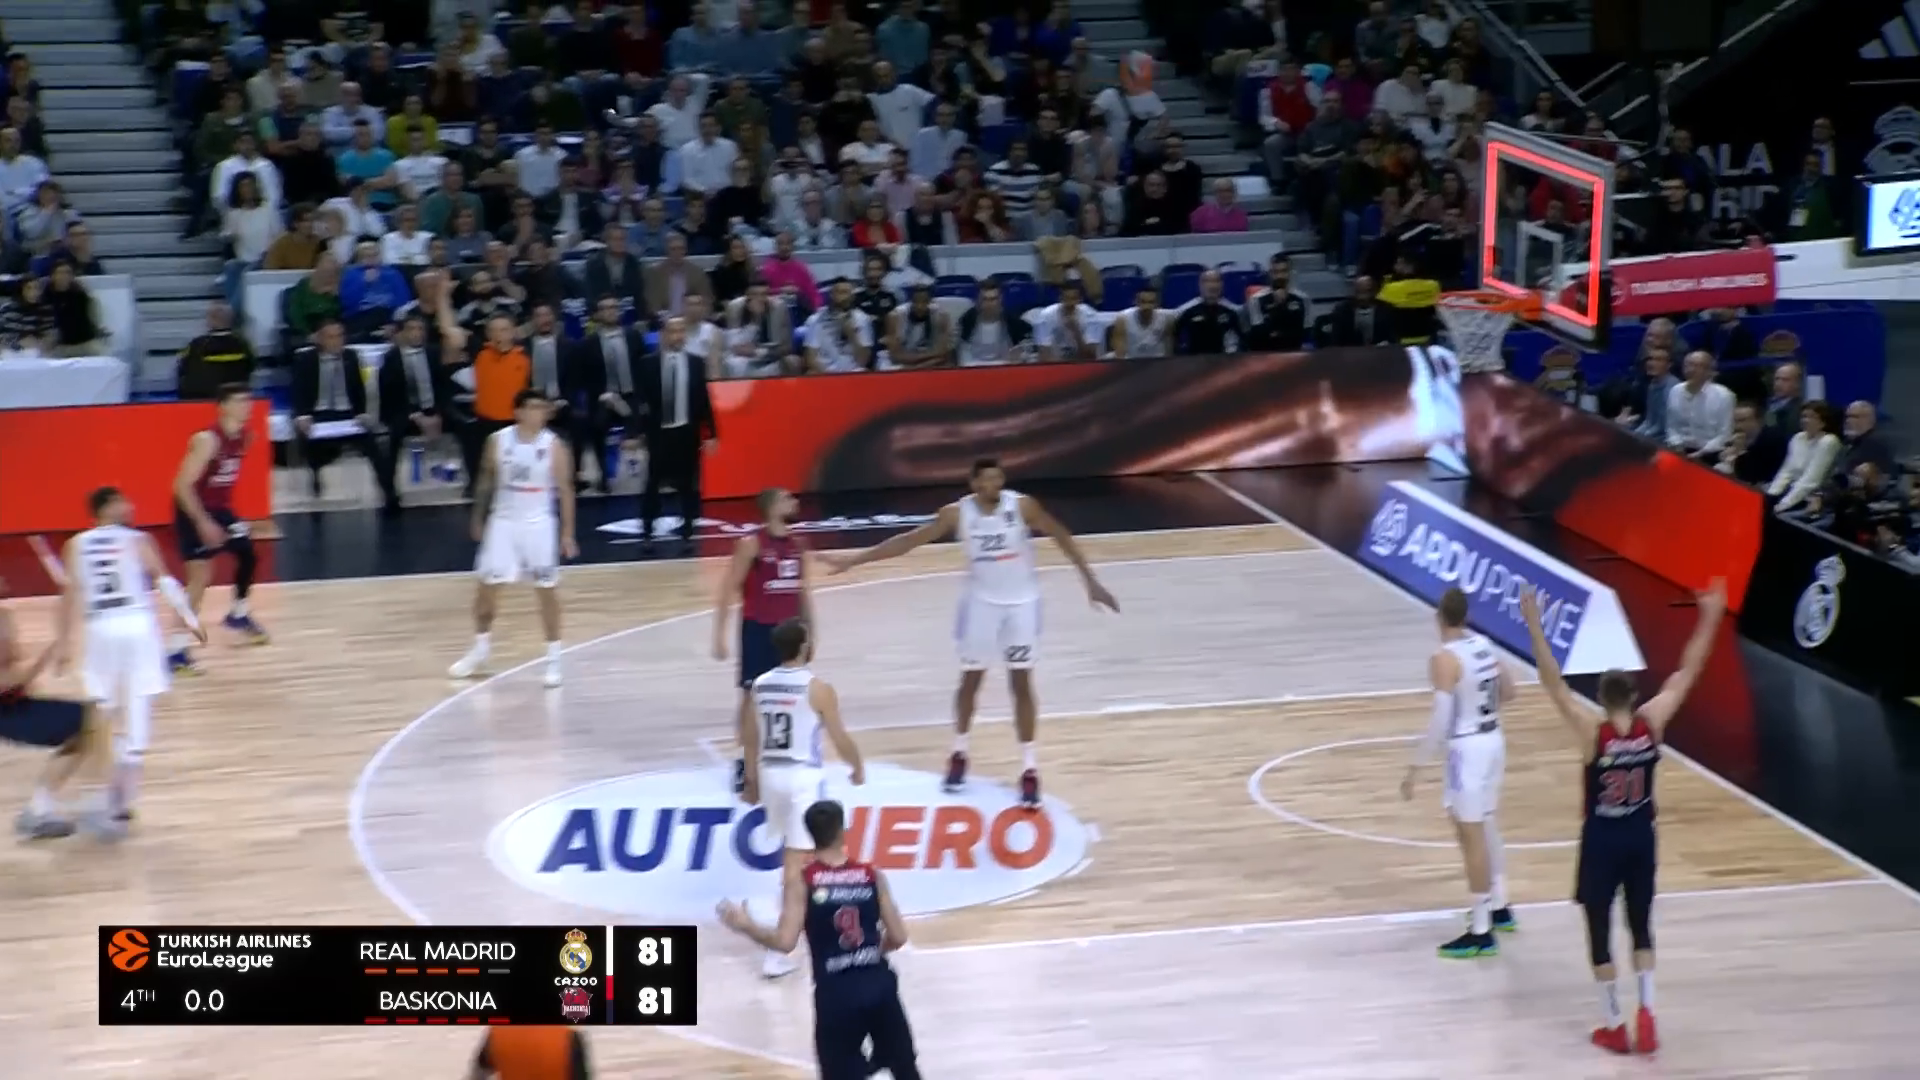ball: (1114, 50, 1160, 95)
net: (1433, 286, 1515, 378)
